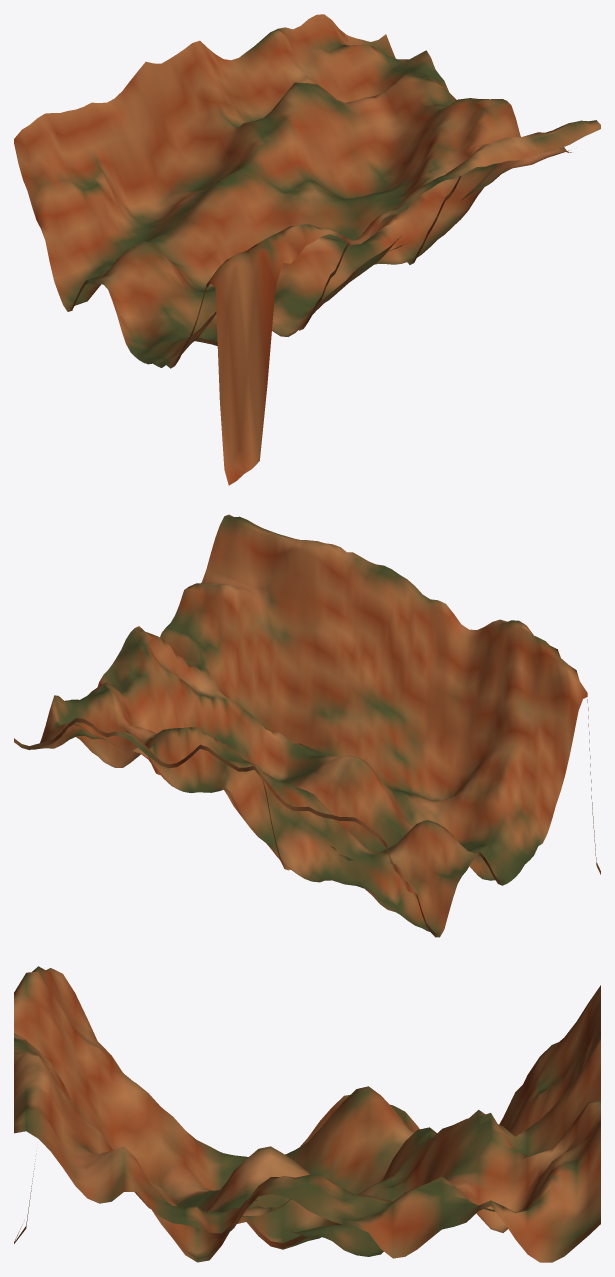
File: terrain-066.glb
3 renders of one model, top to bottom at view 1: azimuth 30°, elevation 25°; view 2: azimuth 150°, elevation 25°; view 3: azimuth 270°, elevation 25°, orthographic. The views are drawn at different scales.
Visible parts, largest first — view 1: terrain-066; view 2: terrain-066; view 3: terrain-066.
Boxes of the visible parts, <box> form: terrain-066: <box>14,14,600,485</box>; terrain-066: <box>14,514,600,937</box>; terrain-066: <box>14,966,600,1262</box>.
Bounding box in the file's own units: 384 × 271 × 384.
